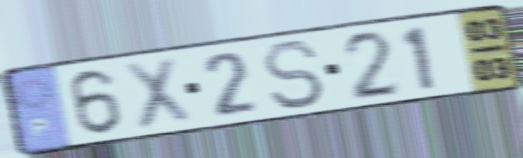1: (400, 22, 438, 93)
2: (342, 28, 404, 102), (202, 50, 262, 118)
6: (66, 66, 124, 137)
S: (258, 38, 328, 112)
X: (119, 53, 195, 134)
